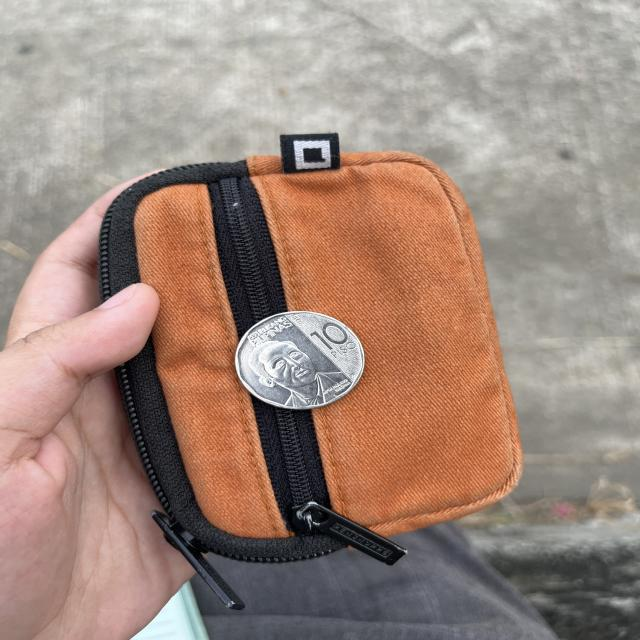10_New_Front: (308, 323, 359, 356)
